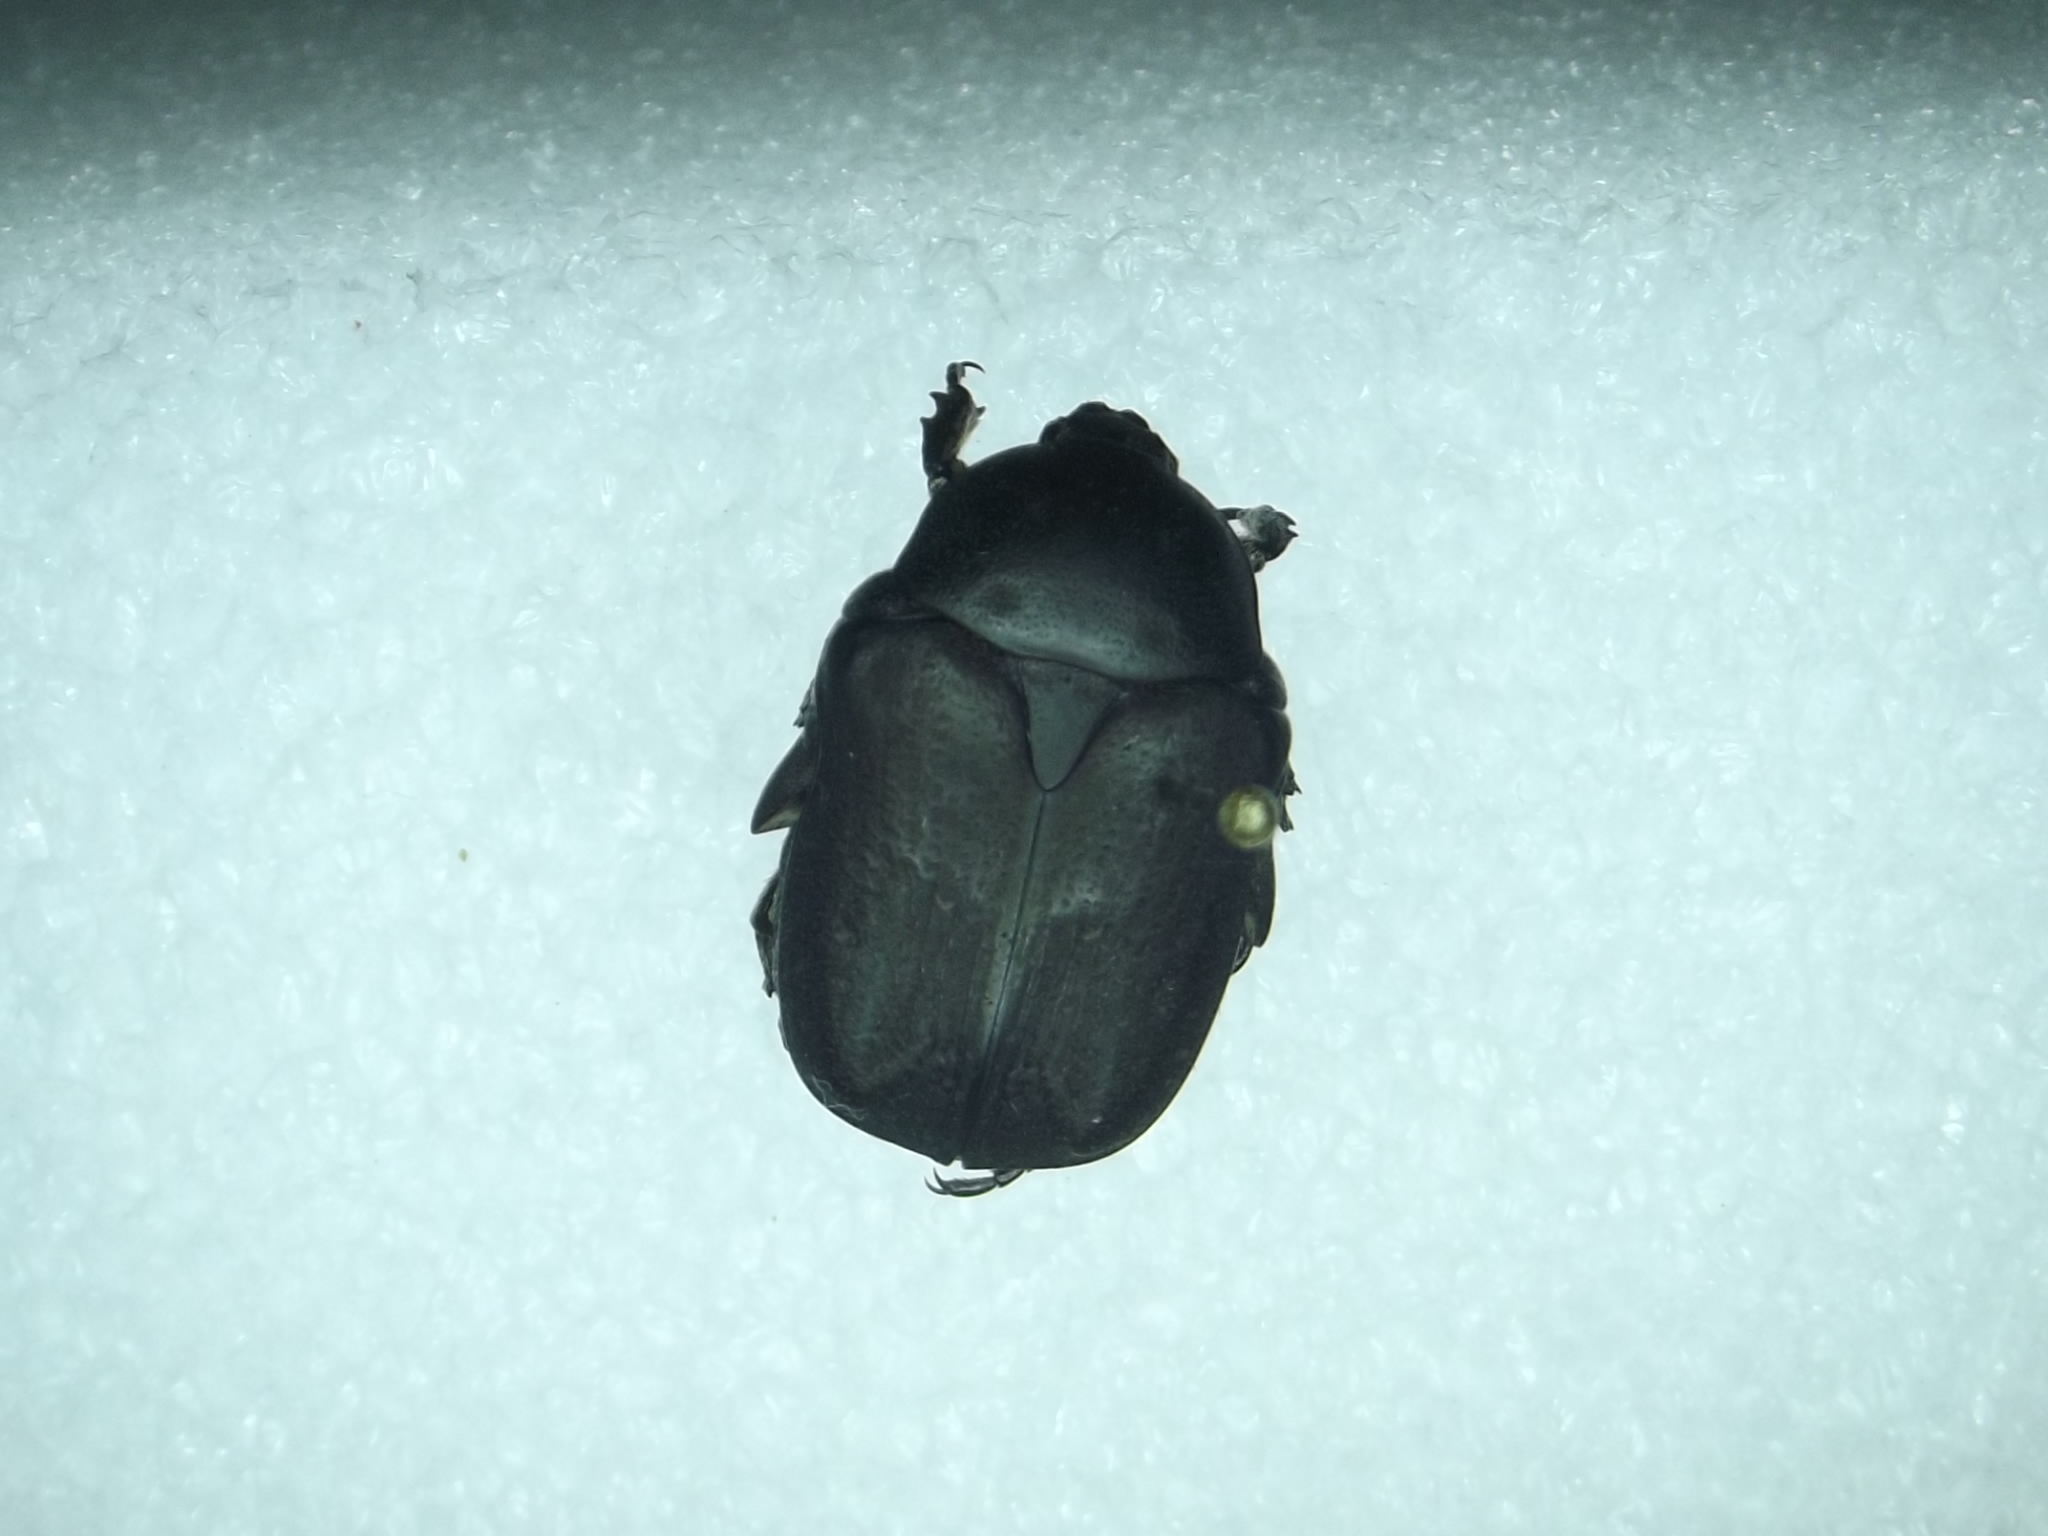Protaetia_asiatica: (714, 332, 1321, 1246)
